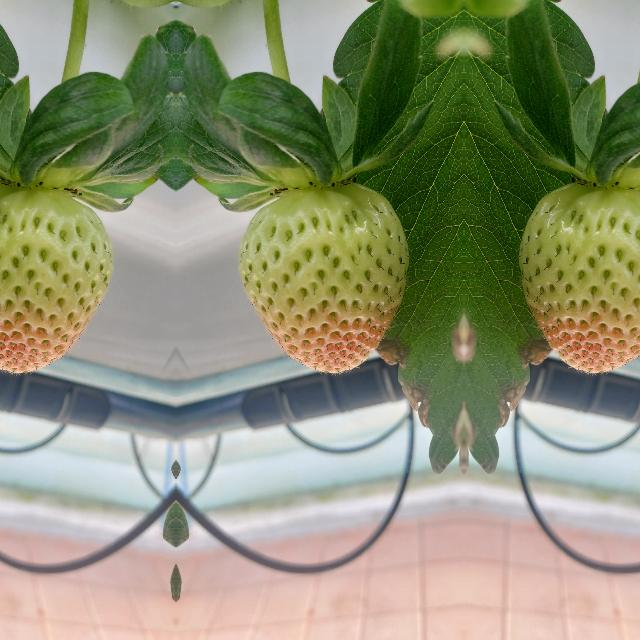Health_50: (238, 182, 408, 374), (518, 182, 640, 373), (0, 182, 112, 373)
